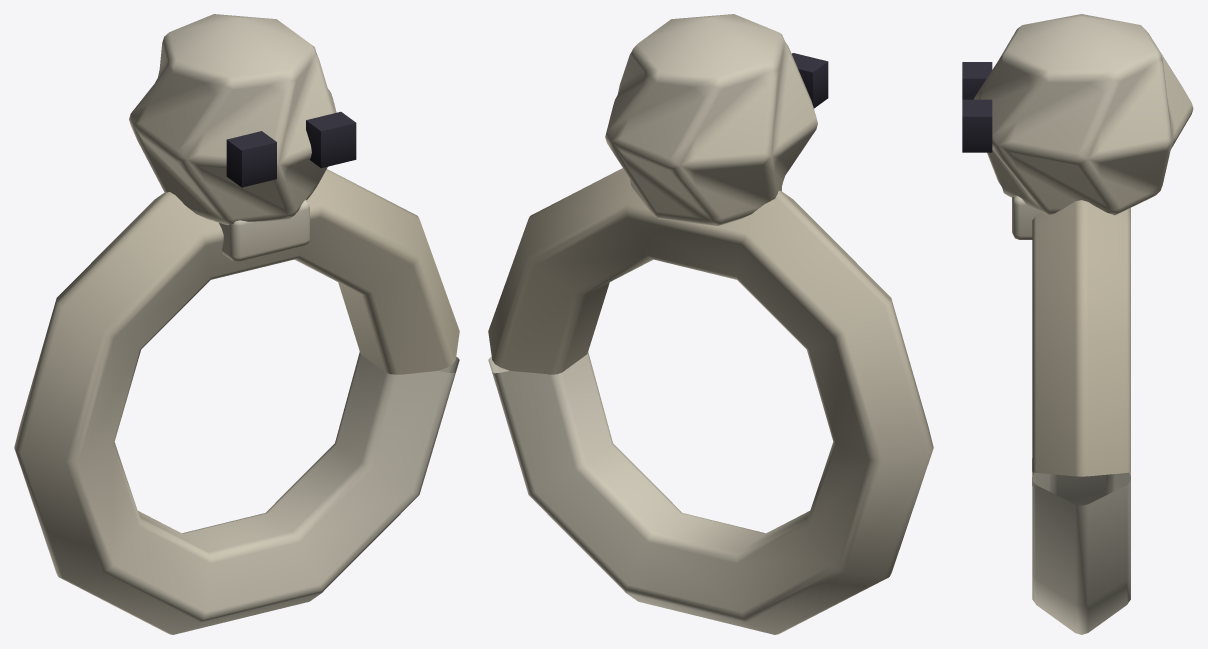
File: death_ring.glb
The picture shows the model from 3 angles, left to right: view 1: azimuth 30°, elevation 25°; view 2: azimuth 150°, elevation 25°; view 3: azimuth 270°, elevation 25°; orthographic projection. The views are drawn at different scales.
Parts seen in each view (by area): view 1: death_ring, death_ring_trim; view 2: death_ring, death_ring_trim; view 3: death_ring, death_ring_trim.
Boxes of the visible parts, x1=… form: death_ring: x1=14, y1=14, x2=459, y2=634; death_ring_trim: x1=226, y1=111, x2=356, y2=187; death_ring: x1=488, y1=14, x2=933, y2=634; death_ring_trim: x1=792, y1=53, x2=828, y2=108; death_ring: x1=973, y1=14, x2=1193, y2=634; death_ring_trim: x1=962, y1=62, x2=992, y2=152.
Bounding box in the file's own units: 0.5019 × 0.6499 × 0.2326.
